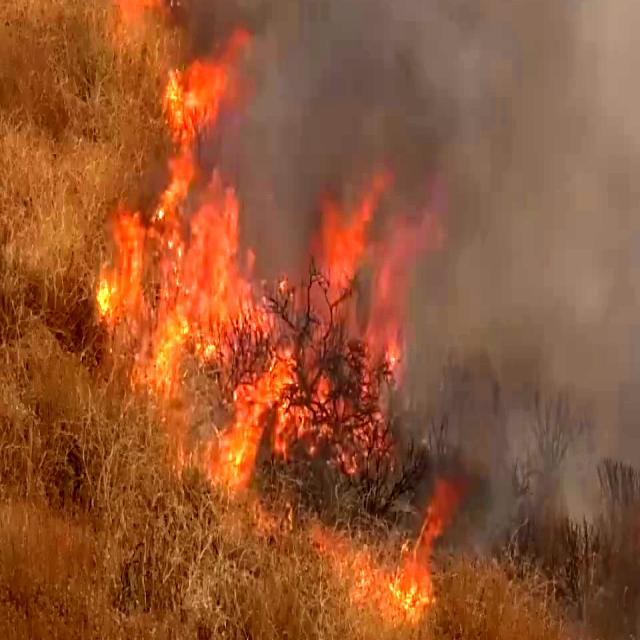fire: (101, 0, 460, 593)
smoke: (438, 0, 640, 372)
